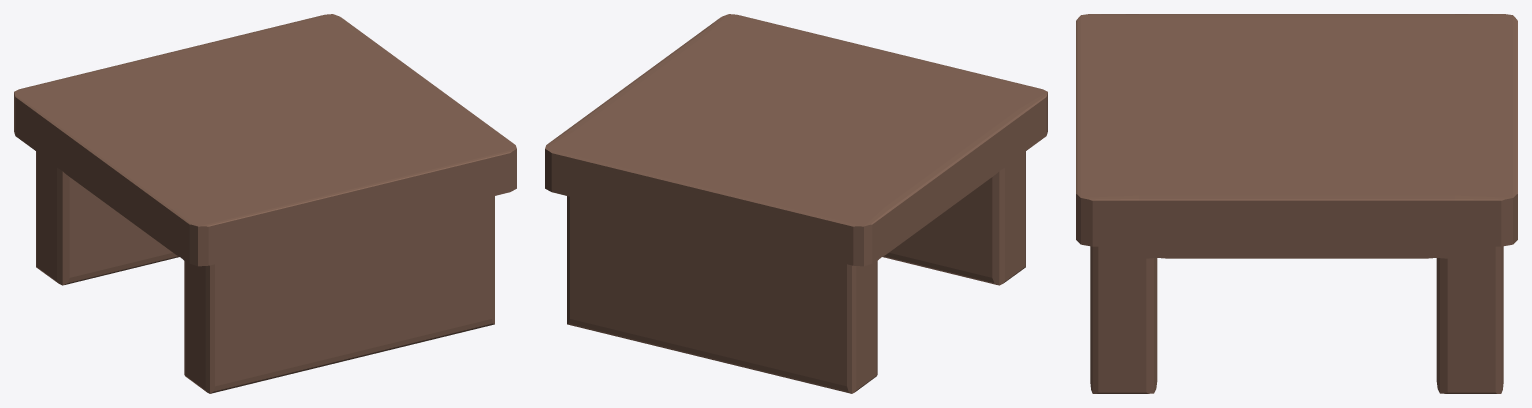
The model's file is M6BO_Model_Tafel.fbx.
3 renders of one model, left to right at view 1: azimuth 30°, elevation 25°; view 2: azimuth 150°, elevation 25°; view 3: azimuth 270°, elevation 25°, orthographic. The views are drawn at different scales.
Parts seen in each view (by area): view 1: Tafel; view 2: Tafel; view 3: Tafel.
Part boxes in pixels (bbox=[...]): Tafel: bbox=[14, 14, 516, 393]; Tafel: bbox=[545, 14, 1047, 393]; Tafel: bbox=[1076, 14, 1517, 393].
Bounding box in the file's own units: 489 × 251 × 489.
